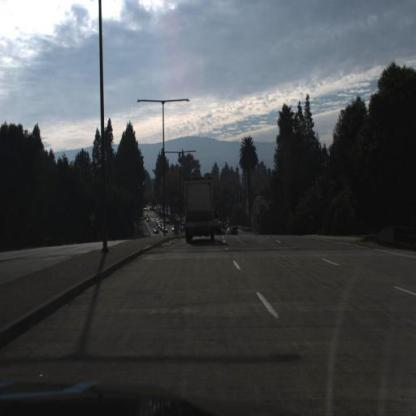car: (216, 212, 223, 235)
truck: (184, 179, 218, 246)
